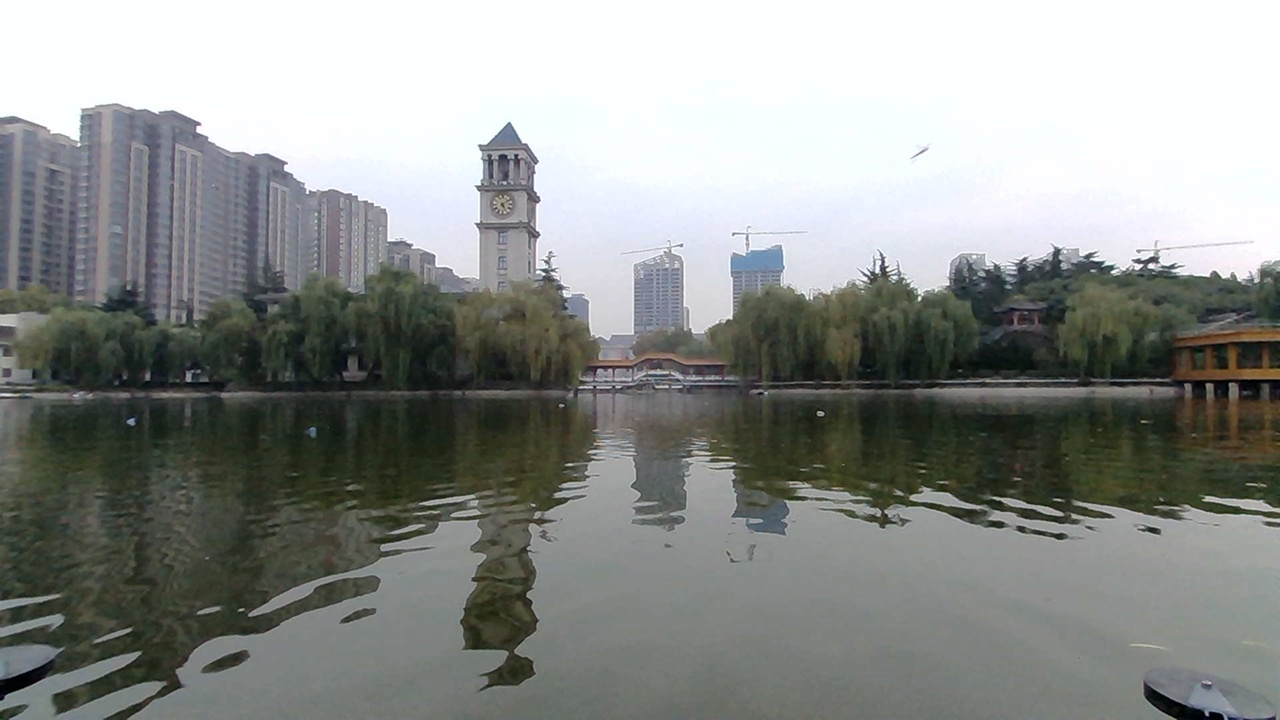bottle: (796, 400, 840, 422), (296, 420, 330, 442), (120, 404, 141, 432)
